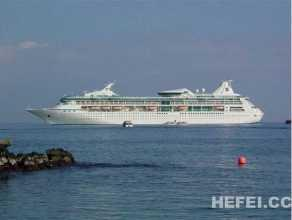youlun: (19, 73, 267, 128)
